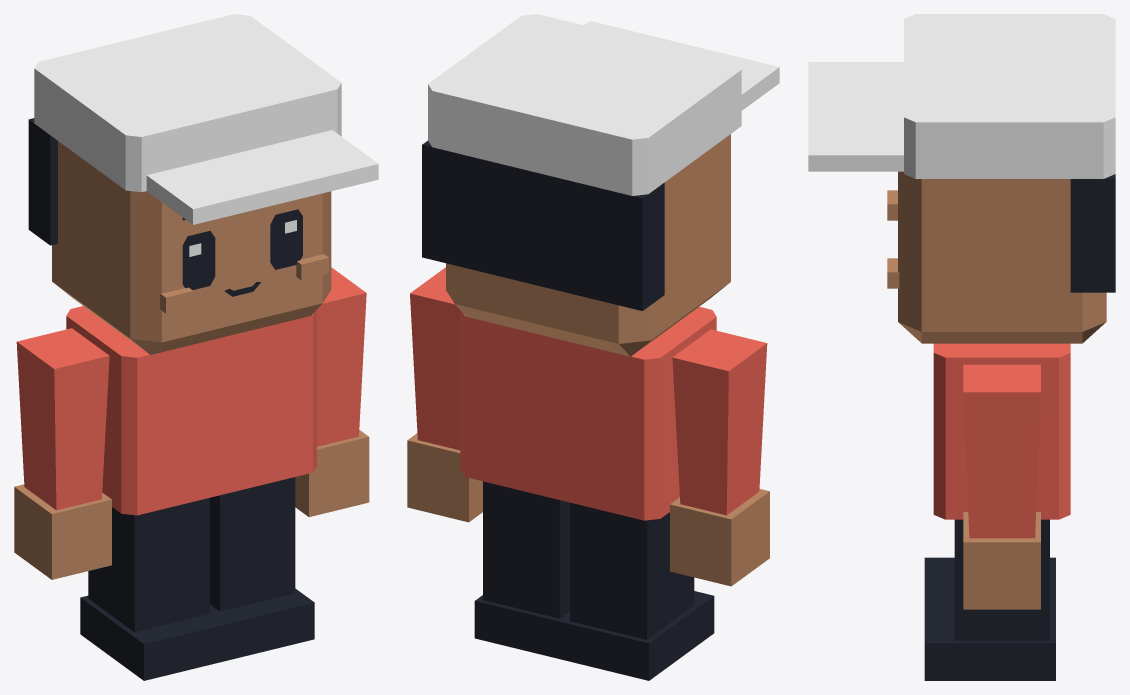
The model's file is townsperson-cap.glb.
The picture shows the model from 3 angles, left to right: view 1: azimuth 30°, elevation 25°; view 2: azimuth 150°, elevation 25°; view 3: azimuth 270°, elevation 25°; orthographic projection. The views are drawn at different scales.
Parts seen in each view (by area): view 1: hair, body, head, arm_R, leg_R, leg_L, arm_L, shoe_R, hand_R, face, hand_L, shoe_L; view 2: hair, body, head, arm_R, leg_R, leg_L, arm_L, hand_R, shoe_R, hand_L, shoe_L; view 3: hair, head, body, arm_L, shoe_L, hand_L, leg_L, shoe_R, face.
Part boxes in pixels (<box>): hair: <box>28,14,378,245</box>; body: <box>66,306,316,515</box>; head: <box>52,141,331,354</box>; arm_R: <box>16,328,109,510</box>; leg_R: <box>88,498,209,632</box>; leg_L: <box>210,477,295,611</box>; arm_L: <box>317,267,366,446</box>; shoe_R: <box>80,595,229,680</box>; hand_R: <box>14,484,111,579</box>; face: <box>160,209,328,313</box>; hand_L: <box>295,430,369,516</box>; shoe_L: <box>210,588,314,659</box>; hair: <box>422,14,779,310</box>; body: <box>460,306,716,520</box>; head: <box>446,134,730,356</box>; arm_R: <box>672,329,767,515</box>; leg_R: <box>570,502,694,639</box>; leg_L: <box>483,481,569,618</box>; arm_L: <box>410,267,460,450</box>; hand_R: <box>670,489,769,586</box>; shoe_R: <box>562,591,714,680</box>; hand_L: <box>407,433,482,522</box>; shoe_L: <box>474,595,569,659</box>; hair: <box>808,14,1115,292</box>; head: <box>898,171,1106,343</box>; body: <box>933,343,1070,519</box>; arm_L: <box>963,364,1040,538</box>; shoe_L: <box>924,600,1055,680</box>; hand_L: <box>963,512,1040,609</box>; leg_L: <box>954,519,1049,640</box>; shoe_R: <box>924,557,1055,600</box>; face: <box>887,190,899,288</box>.
Size of the model in its own units: 1.26 by 2.11 by 1.03.
